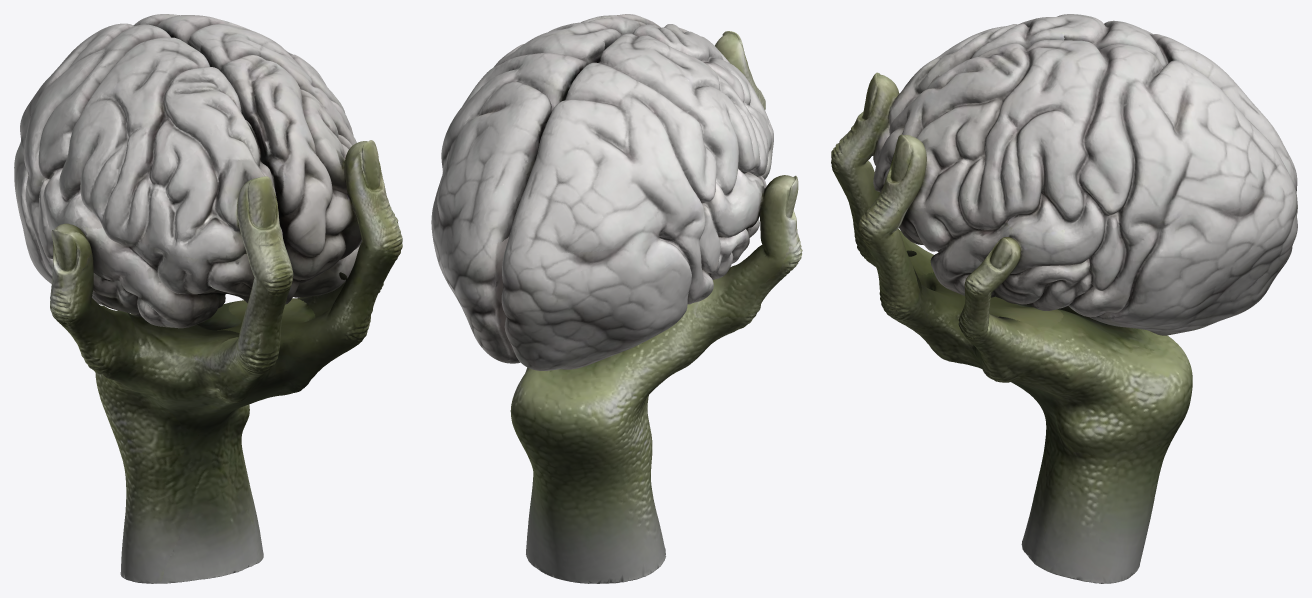
Rendered from alien-hand-final.glb.
The picture shows the model from 3 angles, left to right: view 1: azimuth 30°, elevation 25°; view 2: azimuth 150°, elevation 25°; view 3: azimuth 270°, elevation 25°; orthographic projection. The views are drawn at different scales.
Parts seen in each view (by area): view 1: tmp8lqeukjqobj; view 2: tmp8lqeukjqobj; view 3: tmp8lqeukjqobj.
Part boxes in pixels (x1,y1,x2,y2): tmp8lqeukjqobj: [14, 14, 402, 583]; tmp8lqeukjqobj: [431, 14, 802, 583]; tmp8lqeukjqobj: [831, 14, 1297, 583].
Size of the model in its own units: 0.639 by 1 by 0.8071.
1 material, 1 textured.
